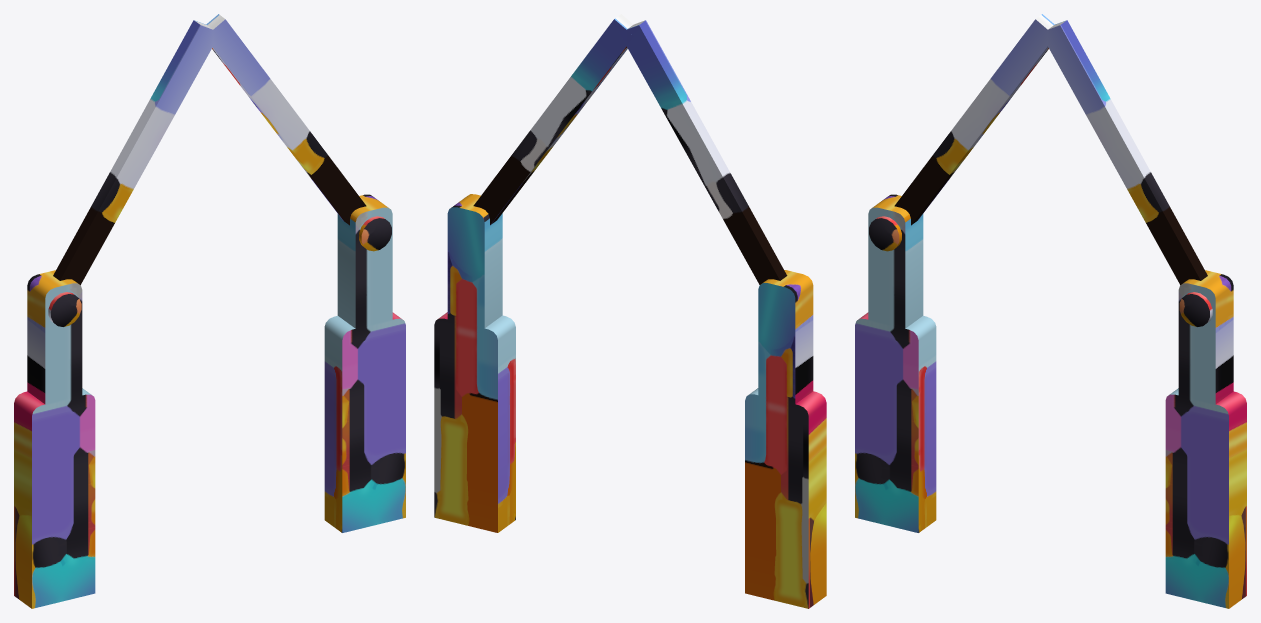
The model's file is dif4.1.fbx.
3 renders of one model, left to right at view 1: azimuth 30°, elevation 25°; view 2: azimuth 150°, elevation 25°; view 3: azimuth 330°, elevation 25°, orthographic.
Parts seen in each view (by area): view 1: Cube.011; view 2: Cube.011; view 3: Cube.011.
Boxes of the visible parts, x1,y1,x2,y2 form: Cube.011: (14,14,405,608); Cube.011: (434,14,826,608); Cube.011: (855,14,1246,608).
Size of the model in its own units: 1709 by 2345 by 171.
